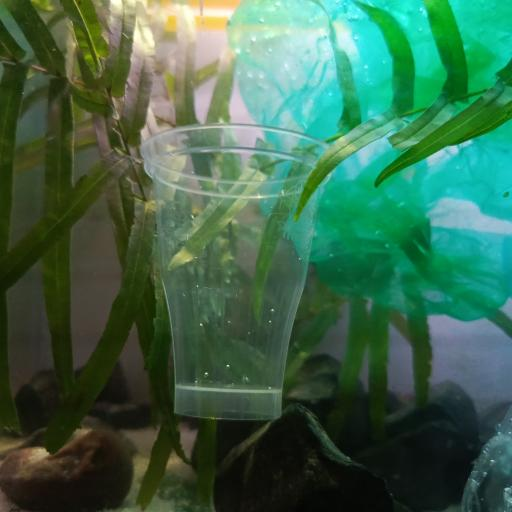plastic_bag: (232, 4, 512, 324), (458, 401, 512, 512)
plastic_cup: (138, 124, 334, 418)
plastic_straw: (161, 10, 229, 32)
